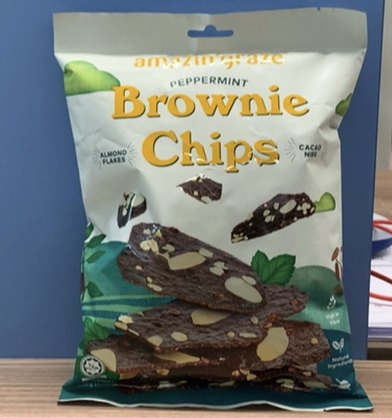crackers_100g-199g: (81, 50, 346, 394)
